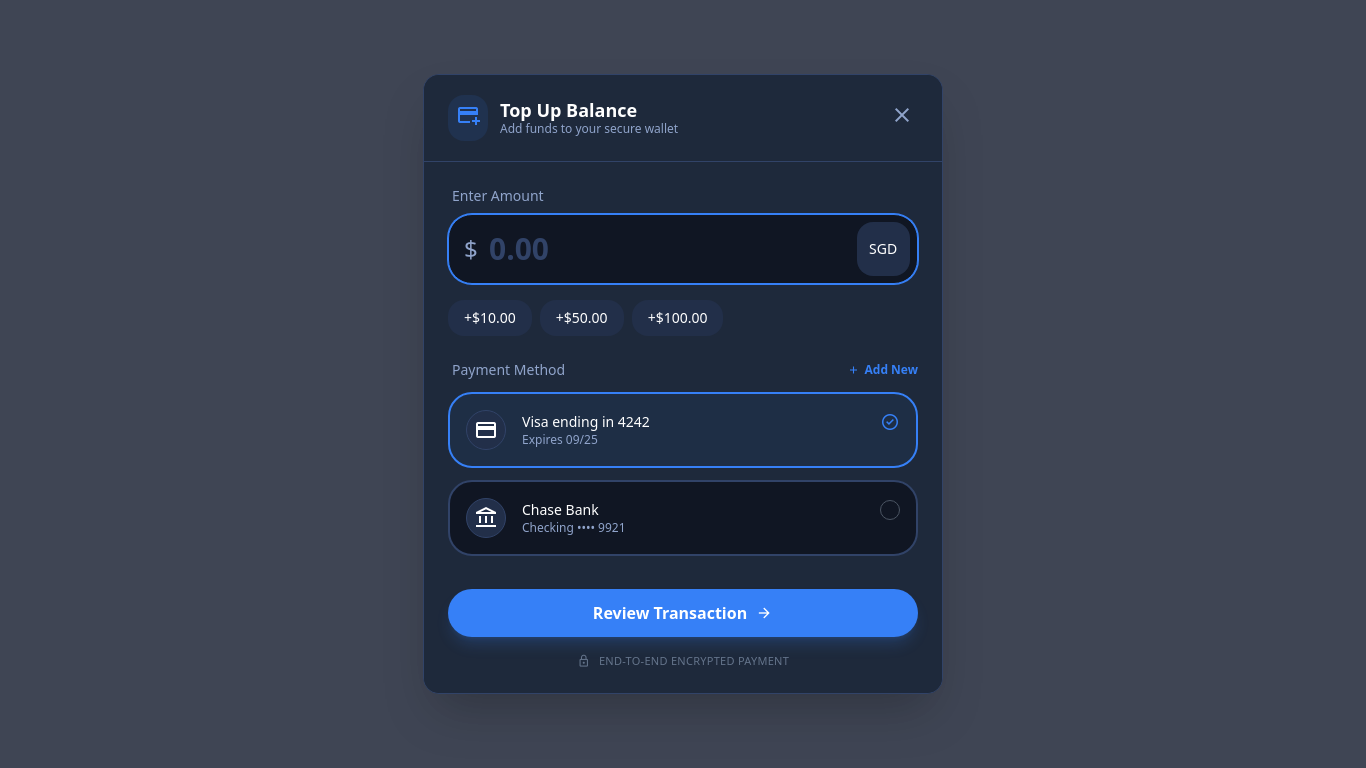
Test: TopUpModal › Amount Validation › should display error for empty amount on submit
What coordinates should you click on to do the following:
click the button "Review Transaction"
I would click on:
 (683, 613)
Its box is x1=448 y1=589 x2=918 y2=637.
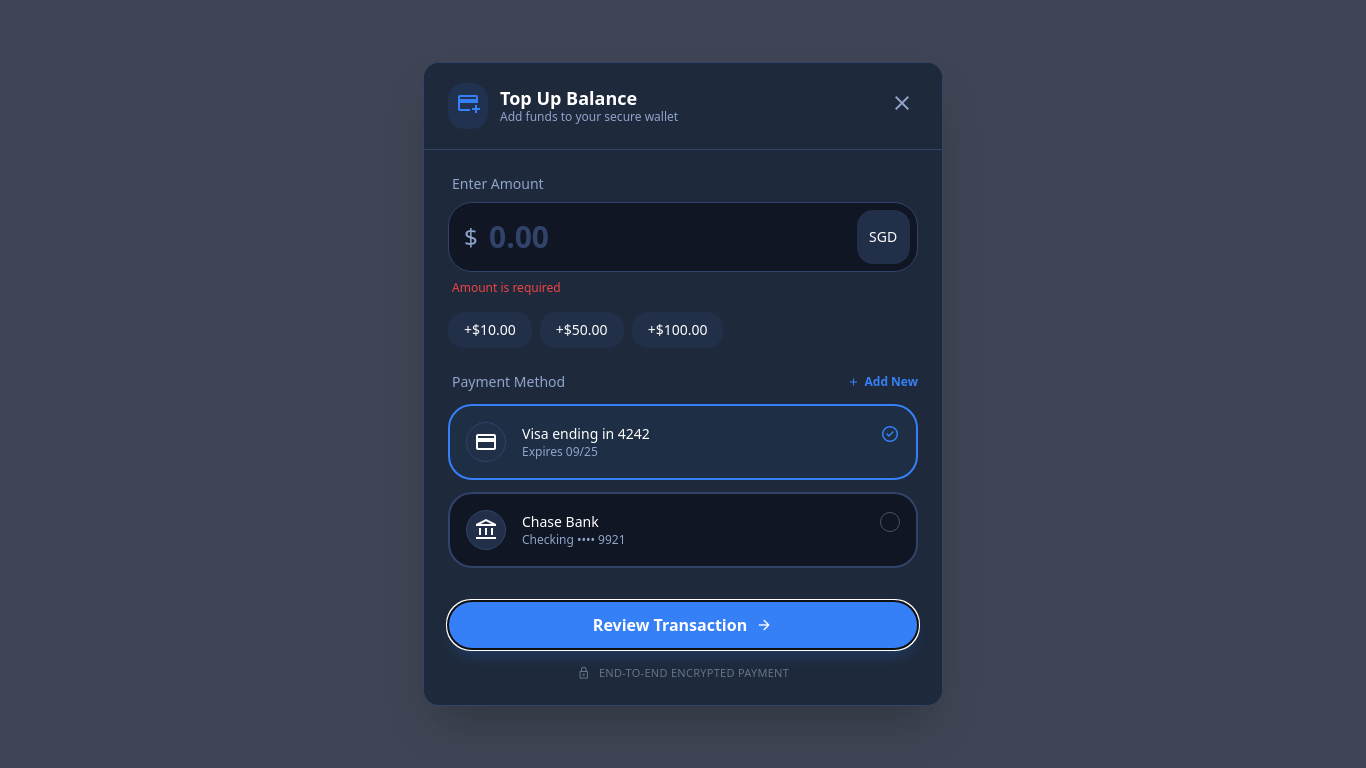
Expected: the text "Amount is required" is shown, x1=452 y1=279 x2=561 y2=296
